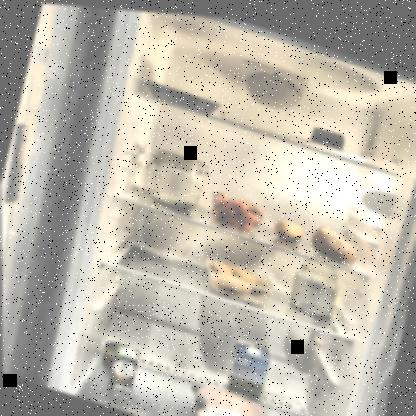cheese: (308, 119, 348, 149)
chicken: (179, 373, 285, 415)
corn: (99, 337, 136, 374)
heavy_cream: (106, 341, 142, 393)
milk: (224, 334, 275, 405)
potato: (201, 251, 280, 306)
strawberries: (206, 184, 269, 234)
sweet_potato: (306, 217, 363, 264), (273, 212, 307, 241)
